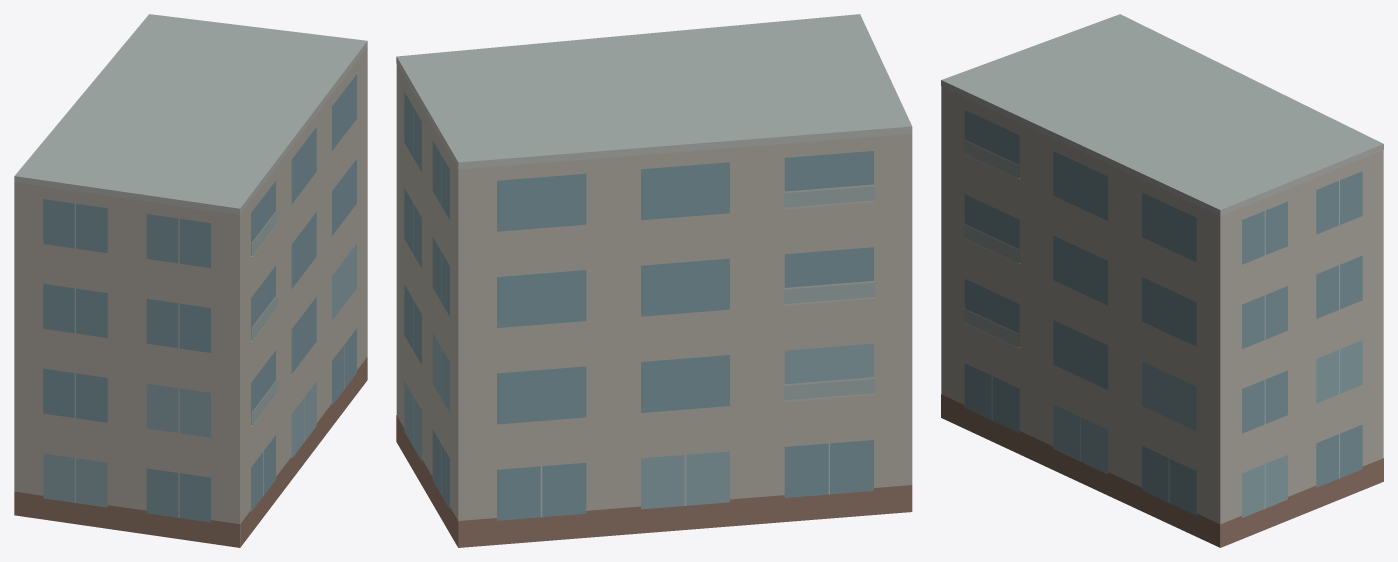
The model's file is survey-upis-32838979.glb.
3 views of the same model, side by side, from view 1: azimuth 30°, elevation 25°; view 2: azimuth 150°, elevation 25°; view 3: azimuth 270°, elevation 25° (orthographic). The views are drawn at different scales.
Visible parts, largest first — view 1: survey-upis-32838979.tmp; view 2: survey-upis-32838979.tmp; view 3: survey-upis-32838979.tmp.
Boxes of the visible parts, left/top/right/bottom form: survey-upis-32838979.tmp: left=14, top=14, right=367, bottom=547; survey-upis-32838979.tmp: left=396, top=14, right=912, bottom=547; survey-upis-32838979.tmp: left=941, top=14, right=1383, bottom=547.
Size of the model in its own units: 16.32 by 13.1 by 15.56.
